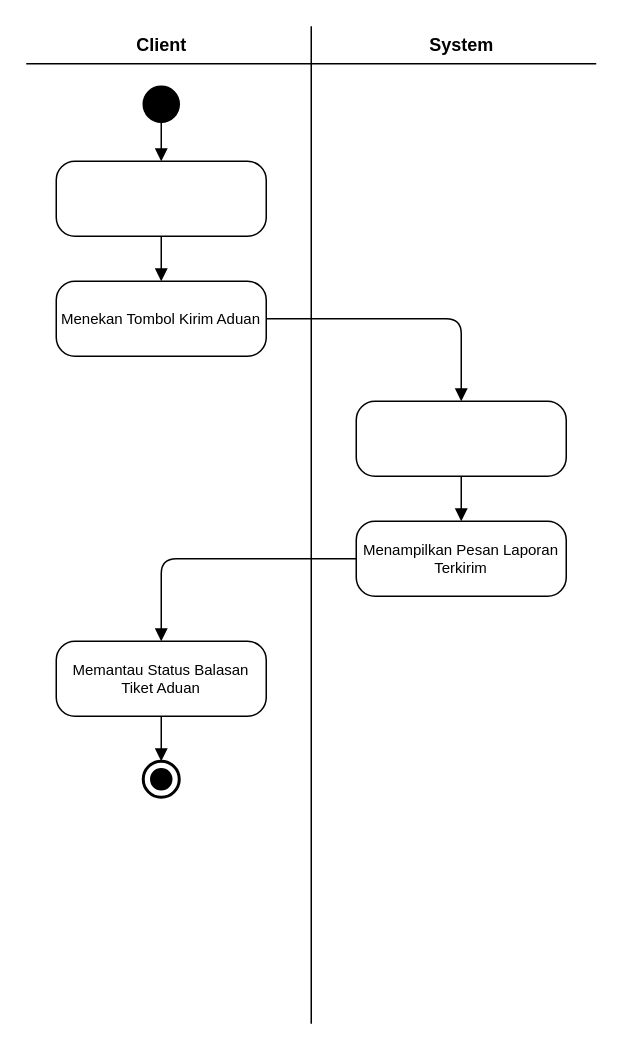
The diagram is 624 pixels wide and 1052 high, and some of its shapes have lost their labels. Here are the shapes that lost their labels. From the top down, the box of each, then its label:
(55, 160, 266, 236): Akses Menu Aduan & Isi Form Laporan
(355, 400, 566, 476): Menyimpan Laporan Status PENDING
